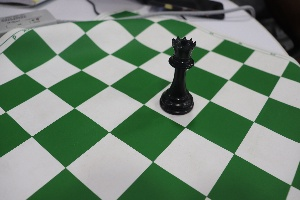black_queen: (161, 21, 197, 117)
